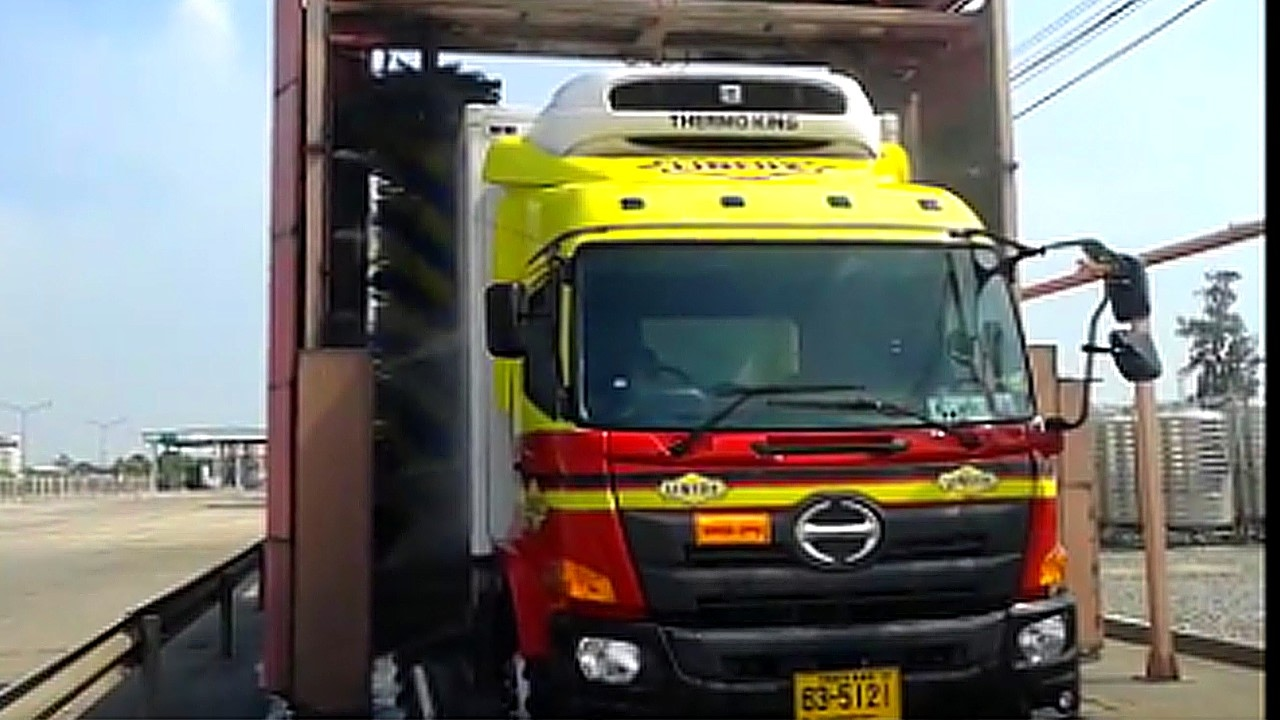truck: (484, 143, 1088, 717)
